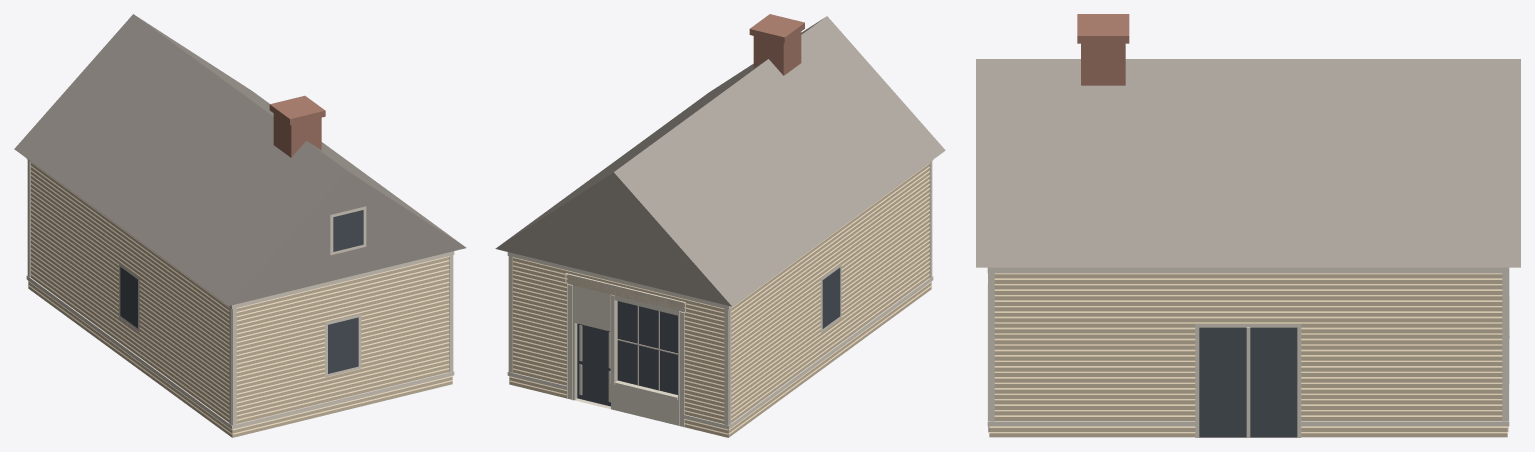
Rendered from recon_1835_south_c2_007__inferred_1835.glb.
The picture shows the model from 3 angles, left to right: view 1: azimuth 30°, elevation 25°; view 2: azimuth 150°, elevation 25°; view 3: azimuth 270°, elevation 25°; orthographic projection. The views are drawn at different scales.
Visible parts, largest first — view 1: recon_1835_south_c2_007__inferred_1835; view 2: recon_1835_south_c2_007__inferred_1835; view 3: recon_1835_south_c2_007__inferred_1835.
Boxes of the visible parts, box(x1,y1,x2,y2) form: recon_1835_south_c2_007__inferred_1835: box(14, 14, 466, 437); recon_1835_south_c2_007__inferred_1835: box(495, 14, 945, 437); recon_1835_south_c2_007__inferred_1835: box(976, 14, 1520, 437).
Size of the model in its own units: 6.59 by 7.16 by 10.31.
